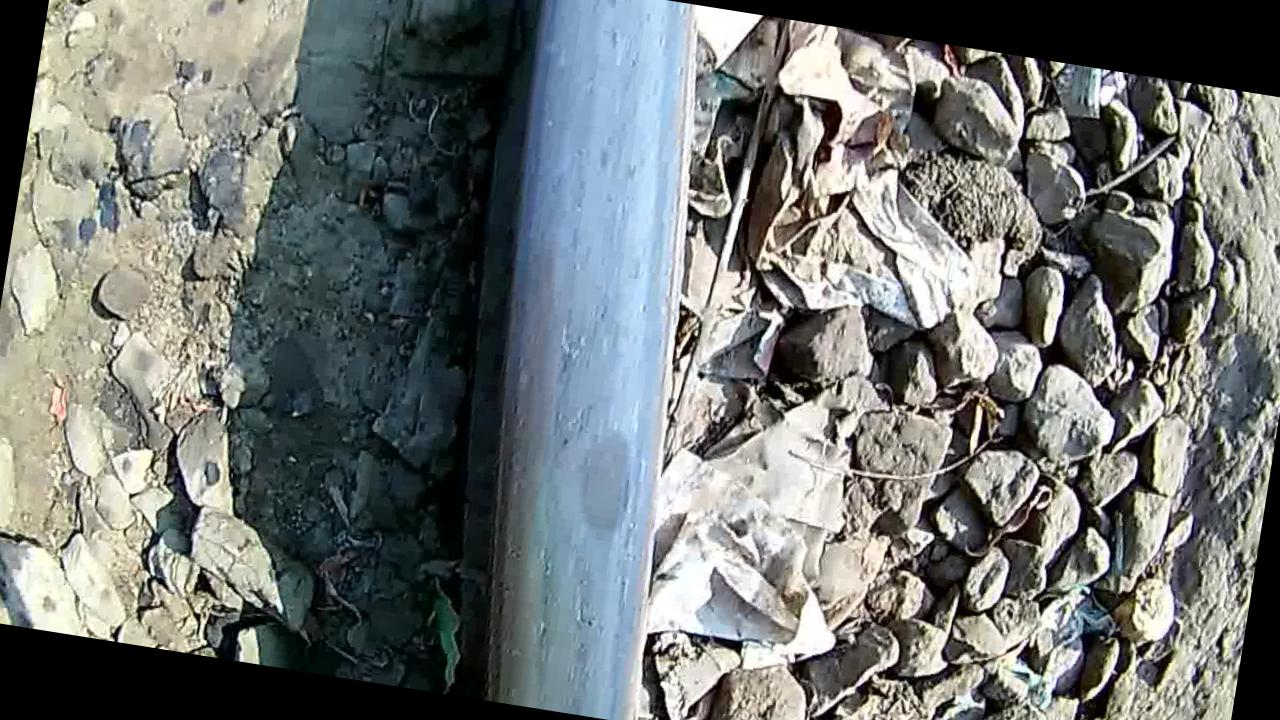bolt_missing: (545, 406, 672, 561)
